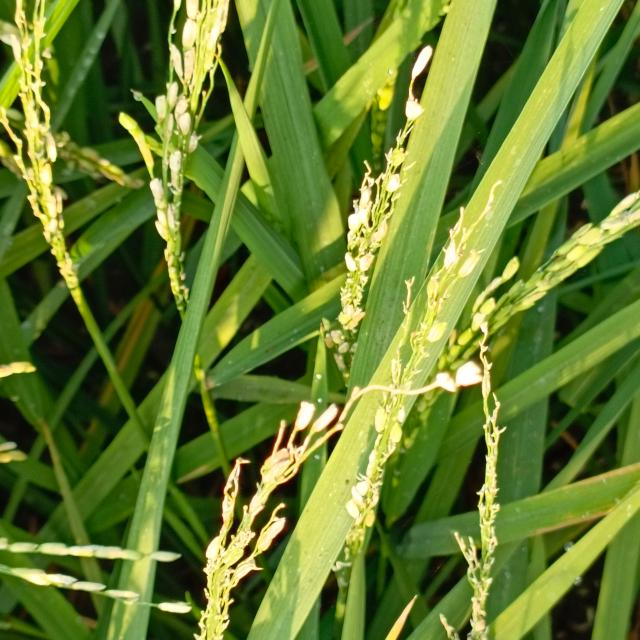Brown spot: (526, 460, 639, 541)
insects: (340, 473, 354, 492)
